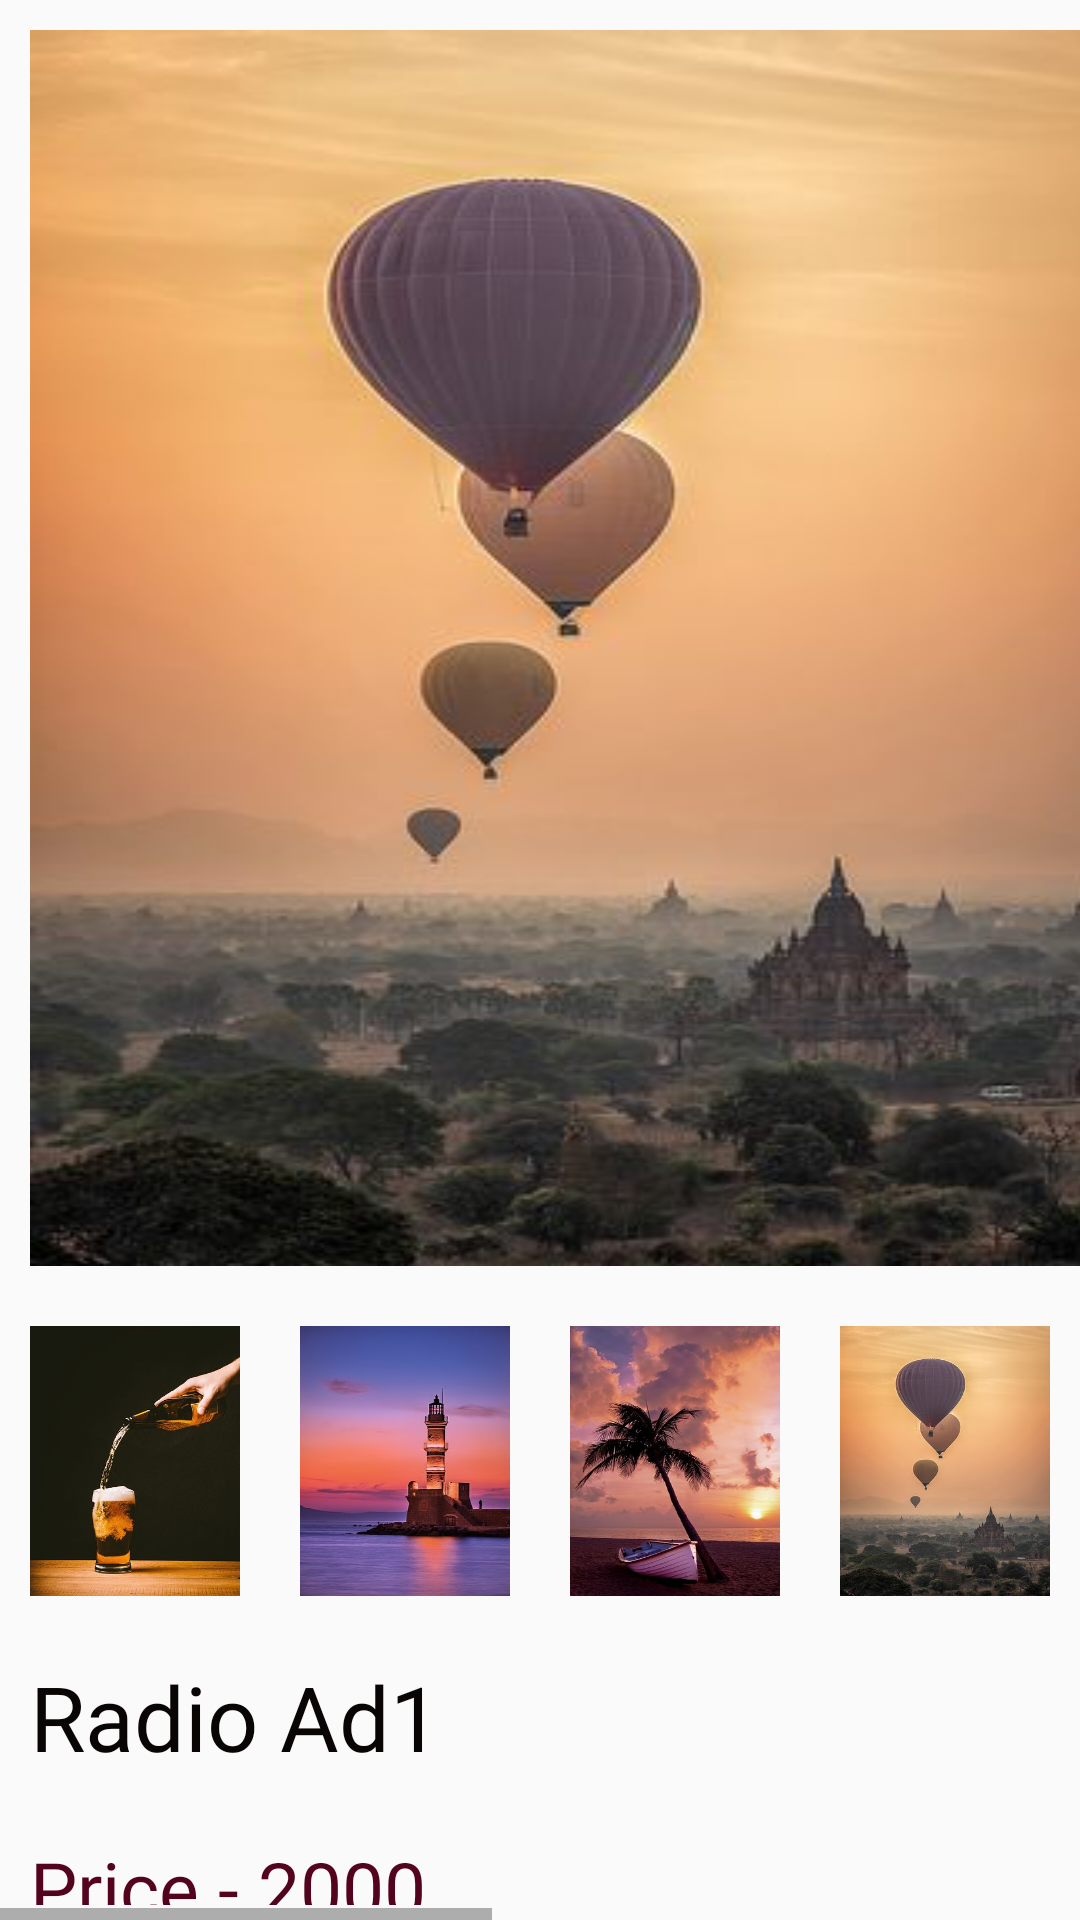

Where to tap for icons on this 1080x1920 app screen, as [x,y]:
beer: [135,1461]
palm: [675,1461]
